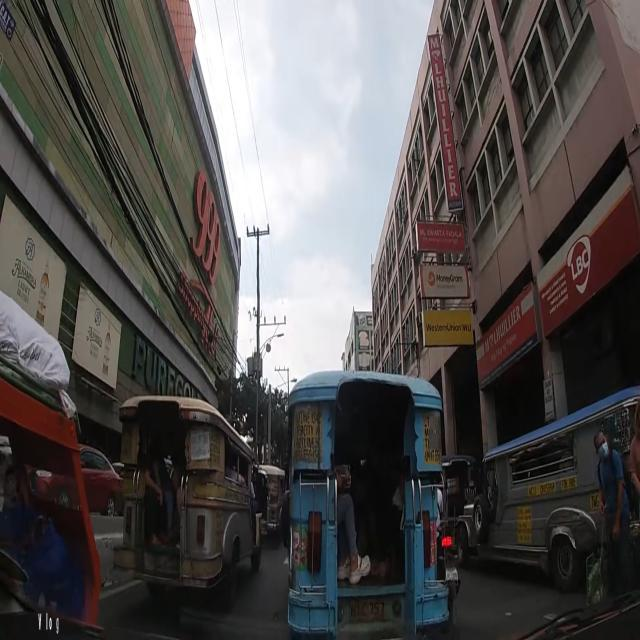car: (29, 439, 120, 524)
jeepney: (290, 370, 450, 640), (460, 386, 640, 592), (113, 397, 262, 612), (440, 454, 478, 569), (254, 463, 289, 545)
tricycle: (2, 284, 116, 635)
